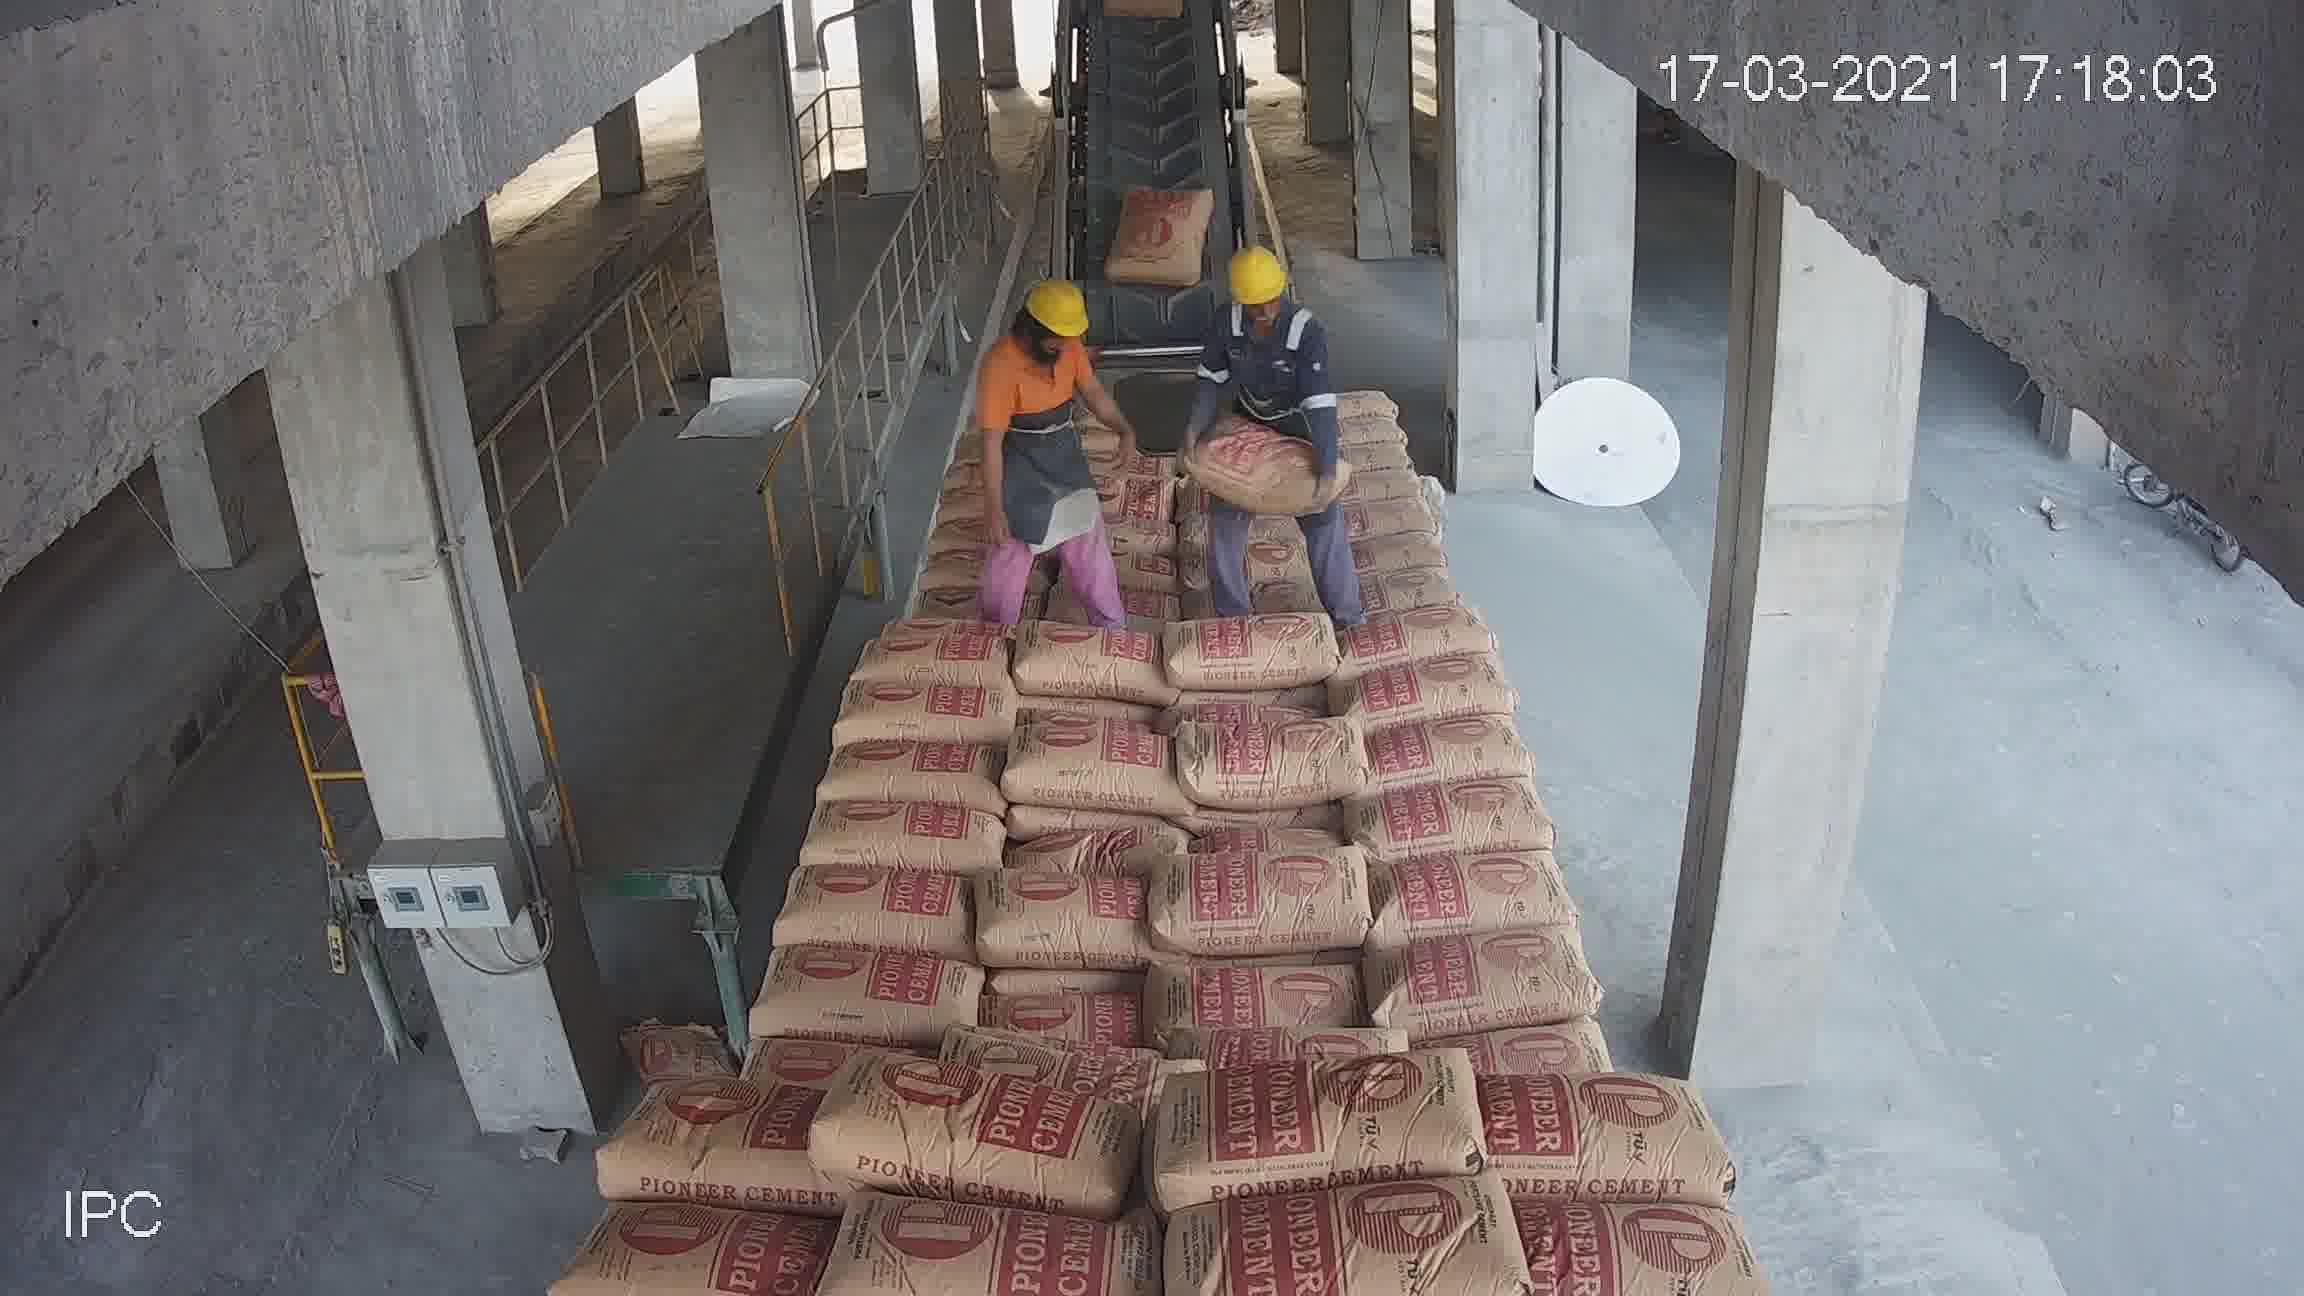bag: (1105, 180, 1214, 279)
bag_h: (1150, 1038, 1497, 1199), (1158, 1174, 1514, 1293), (796, 1063, 1114, 1195), (1462, 1068, 1728, 1206), (831, 1195, 1158, 1296), (600, 1089, 821, 1214), (1377, 919, 1600, 1033), (576, 1199, 843, 1293), (1499, 1192, 1745, 1290), (1149, 956, 1374, 1060), (1150, 847, 1377, 946), (756, 945, 983, 1041), (1362, 843, 1575, 942), (975, 862, 1155, 973), (1176, 715, 1367, 813), (774, 864, 975, 954), (1161, 609, 1348, 704), (1002, 718, 1184, 810), (812, 734, 1016, 809), (802, 804, 1013, 872), (1348, 782, 1551, 851), (1366, 704, 1533, 783), (1195, 423, 1340, 511), (832, 682, 1017, 748), (1014, 620, 1161, 703), (1017, 817, 1195, 885), (1351, 654, 1514, 722), (864, 616, 1025, 684), (984, 975, 1150, 1036), (1351, 555, 1468, 631), (1356, 600, 1503, 658), (1339, 479, 1435, 543), (1343, 524, 1453, 576), (1328, 445, 1434, 495), (1328, 377, 1402, 426), (1340, 424, 1424, 448)
belt: (1033, 5, 1271, 404)
